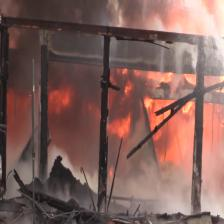smoke: (74, 9, 220, 30), (123, 184, 184, 210), (8, 162, 32, 192), (207, 176, 222, 213)
